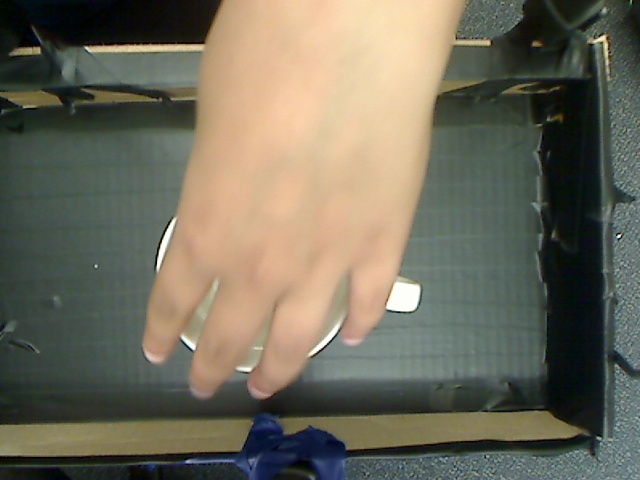mug: (95, 196, 461, 387)
